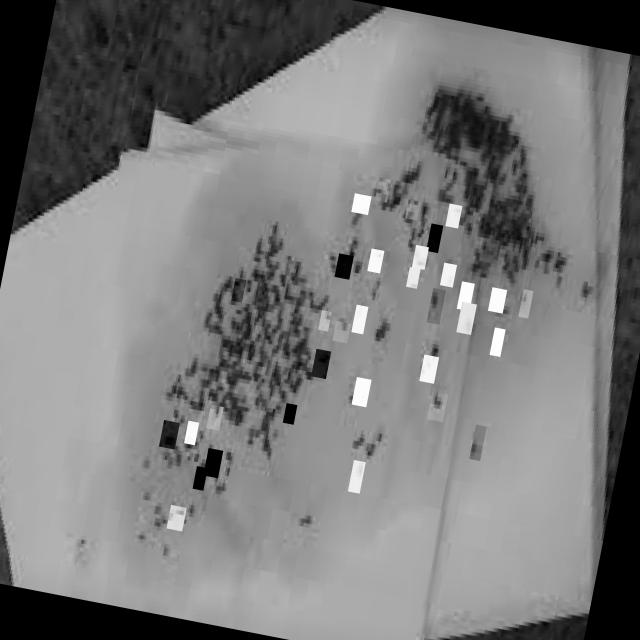fruit fly: (426, 288, 446, 325), (456, 302, 477, 335), (427, 392, 448, 422), (159, 420, 180, 450), (469, 425, 486, 461), (348, 460, 366, 494), (419, 354, 439, 384), (352, 377, 372, 407), (311, 349, 331, 379), (203, 448, 223, 478), (456, 282, 474, 312), (334, 253, 354, 280), (166, 505, 186, 532), (426, 224, 443, 254), (488, 288, 507, 314), (490, 328, 506, 358), (352, 304, 368, 334), (234, 266, 250, 296), (206, 404, 224, 430), (352, 193, 372, 216), (518, 290, 534, 318), (440, 262, 457, 288), (412, 245, 429, 270), (332, 322, 351, 344), (368, 248, 384, 274), (192, 466, 208, 491), (184, 420, 199, 446), (375, 178, 391, 202), (446, 204, 462, 228), (231, 278, 246, 303), (282, 403, 298, 425), (406, 267, 420, 289), (318, 310, 332, 332), (405, 200, 420, 220)
